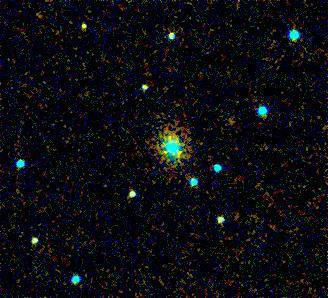star: (67, 9, 97, 39)
